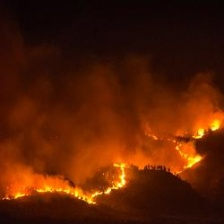fire: (6, 166, 135, 202), (165, 116, 224, 177)
